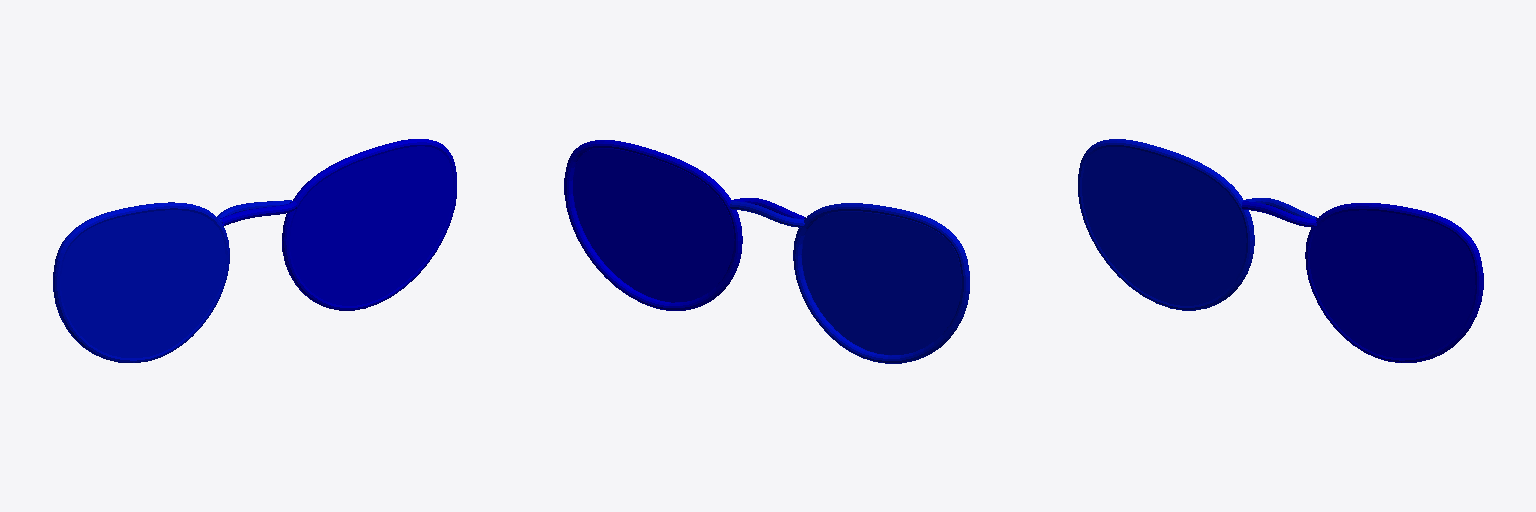
Rendered from frameModel3.obj.
3 renders of one model, left to right at view 1: azimuth 30°, elevation 25°; view 2: azimuth 150°, elevation 25°; view 3: azimuth 330°, elevation 25°, orthographic.
Parts seen in each view (by area): view 1: my4.002, my4, my4.001; view 2: my4, my4.002, my4.003; view 3: my4, my4.002, my4.001.
Boxes of the visible parts, box(x1,y1,x2,y2) form: my4.002: box(53, 202, 229, 362); my4: box(282, 139, 456, 310); my4.001: box(220, 201, 297, 226); my4: box(564, 140, 742, 310); my4.002: box(793, 203, 969, 363); my4.003: box(730, 201, 804, 227); my4: box(1305, 203, 1483, 362); my4.002: box(1078, 139, 1254, 310); my4.001: box(1242, 201, 1316, 227).
Size of the model in its own units: 0.1309 by 0.049 by 0.0084.